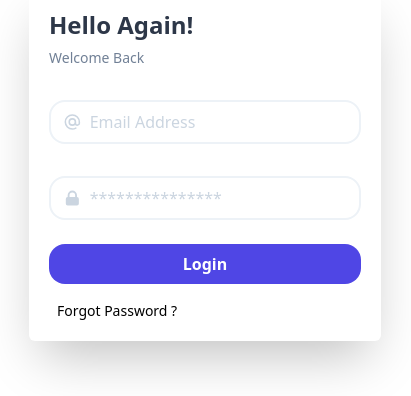
it: Navigation › Static pages › should navigate to the login page
Note: Find an elelment containing "Forgot Password ?" text and click it
Click the text "Forgot Password ?": (117, 311) [57,300,177,321]
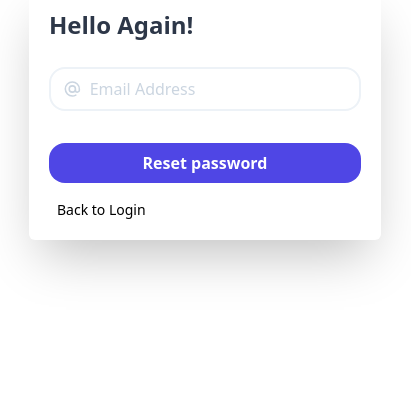
Result: the text "Back to Login" is shown at [57,199,146,220]
